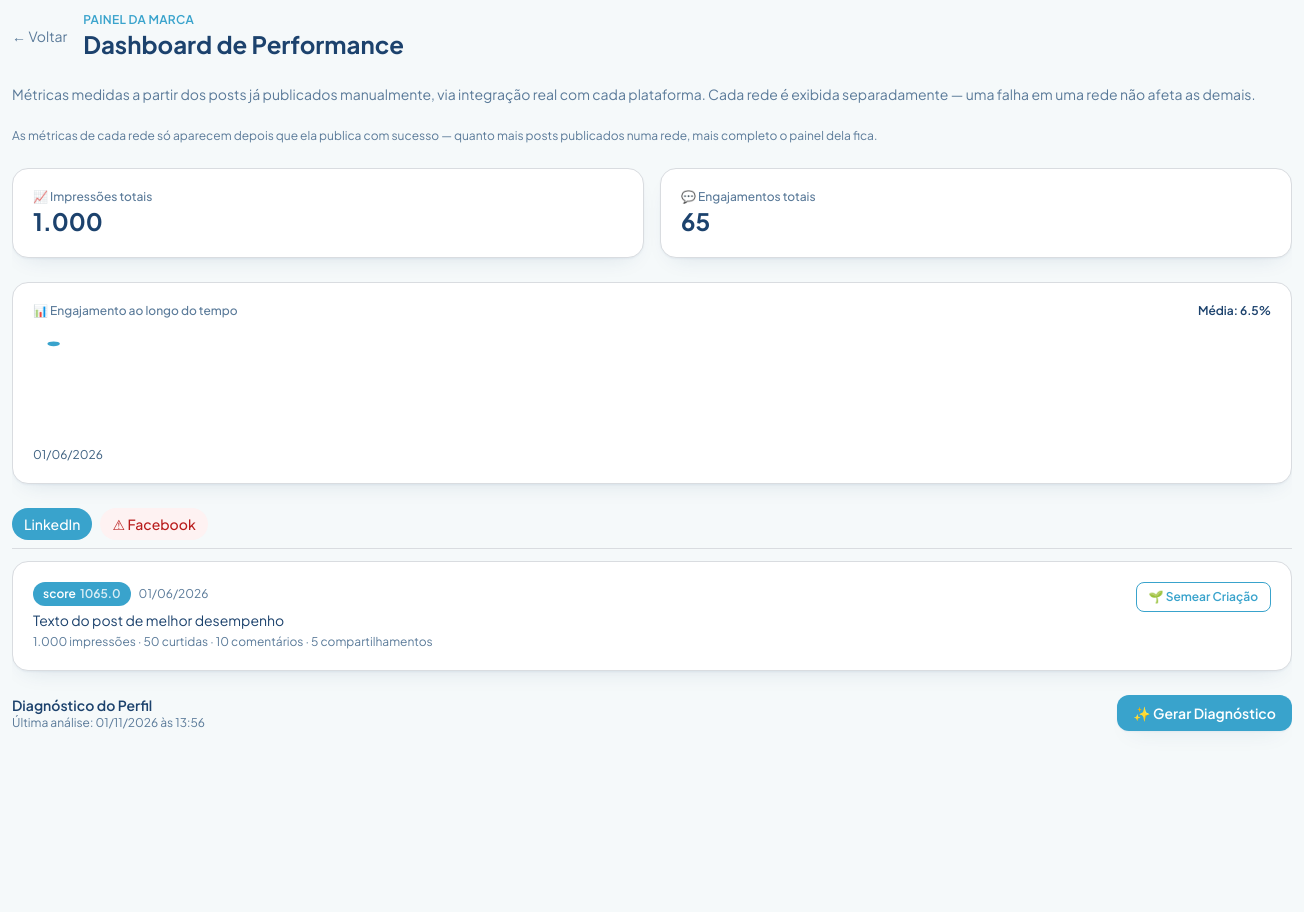
Test: PerformanceDashboardPage › mostra aviso de seguidores mínimos (não "reconectar") quando o erro de permissão é do Facebook
Expected: the text "Texto do post de melhor desempenho" is shown, [33,611,284,629]
Click the button "⚠ Facebook": coordinates (154, 524) [100,508,208,540]
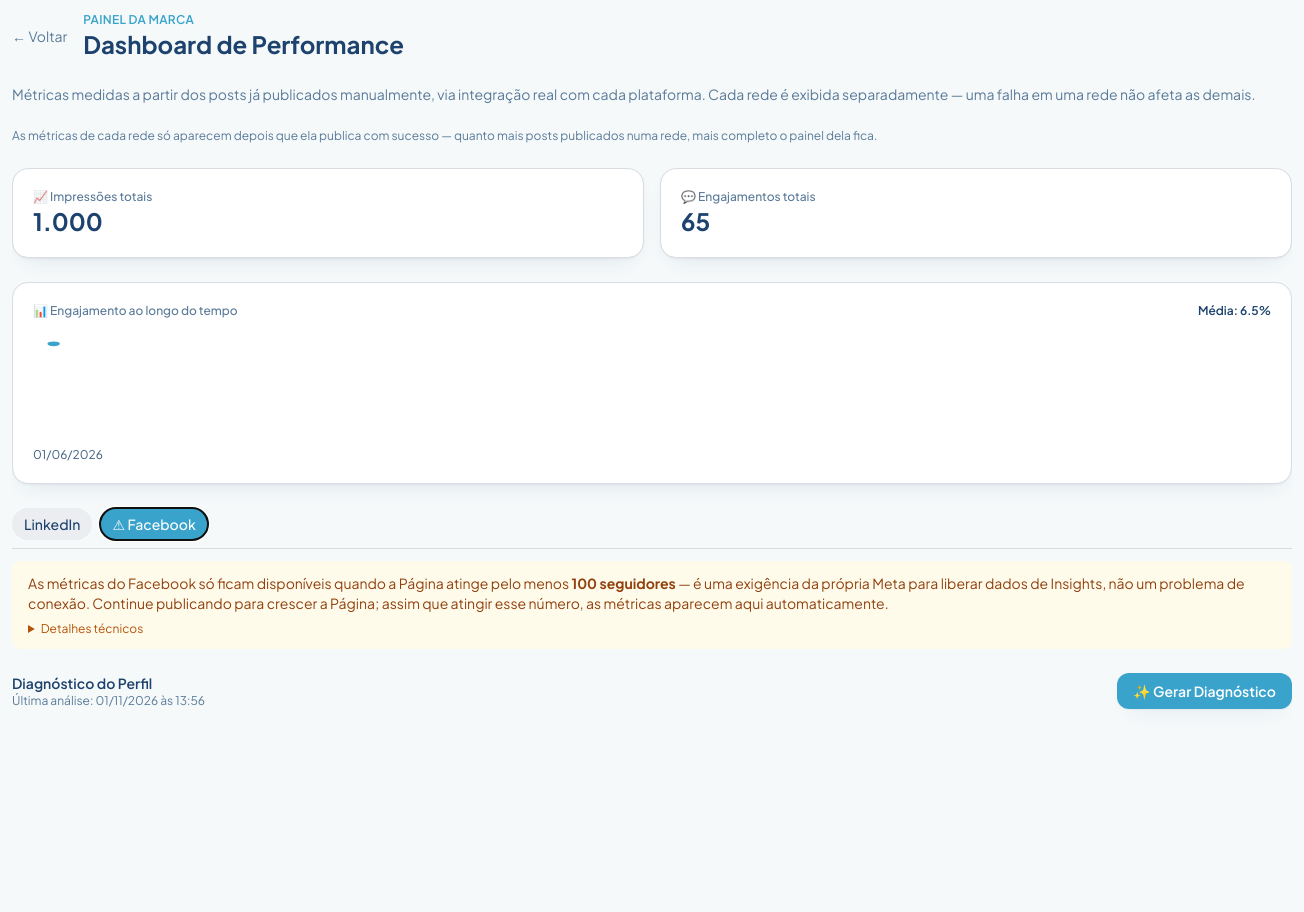
Now the text "100 seguidores" is shown, box [572,574,676,592]
Now the text "OAuthException" is shown, box [41,621,143,636]
